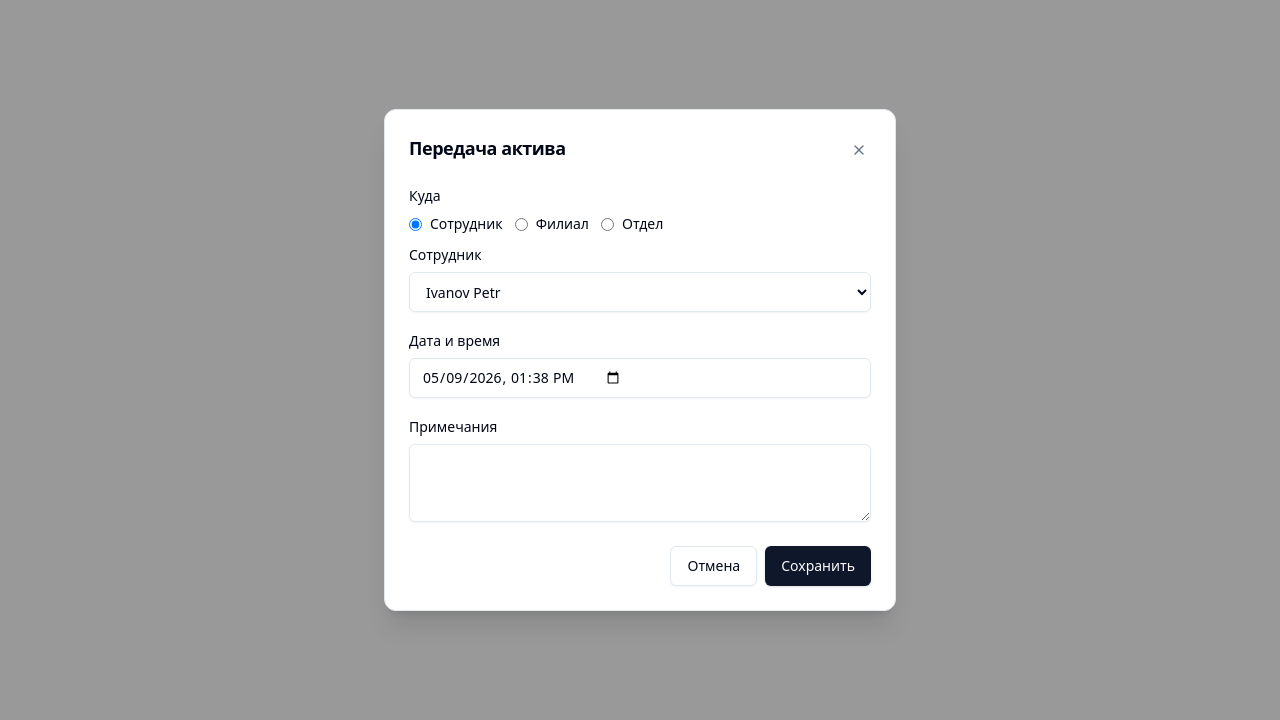
Scenario: AssignDialog › transfer mode (holder → another holder) › rejects a no-op (transfer to the same employee)
The width and height of the screenshot is (1280, 720).
# Pick the SAME employee currently assigned (e_khach) — no-op.
Select "Z Khach" in the dropdown with id "assign-employee" at (640,292), box 409,272 -> 871,312
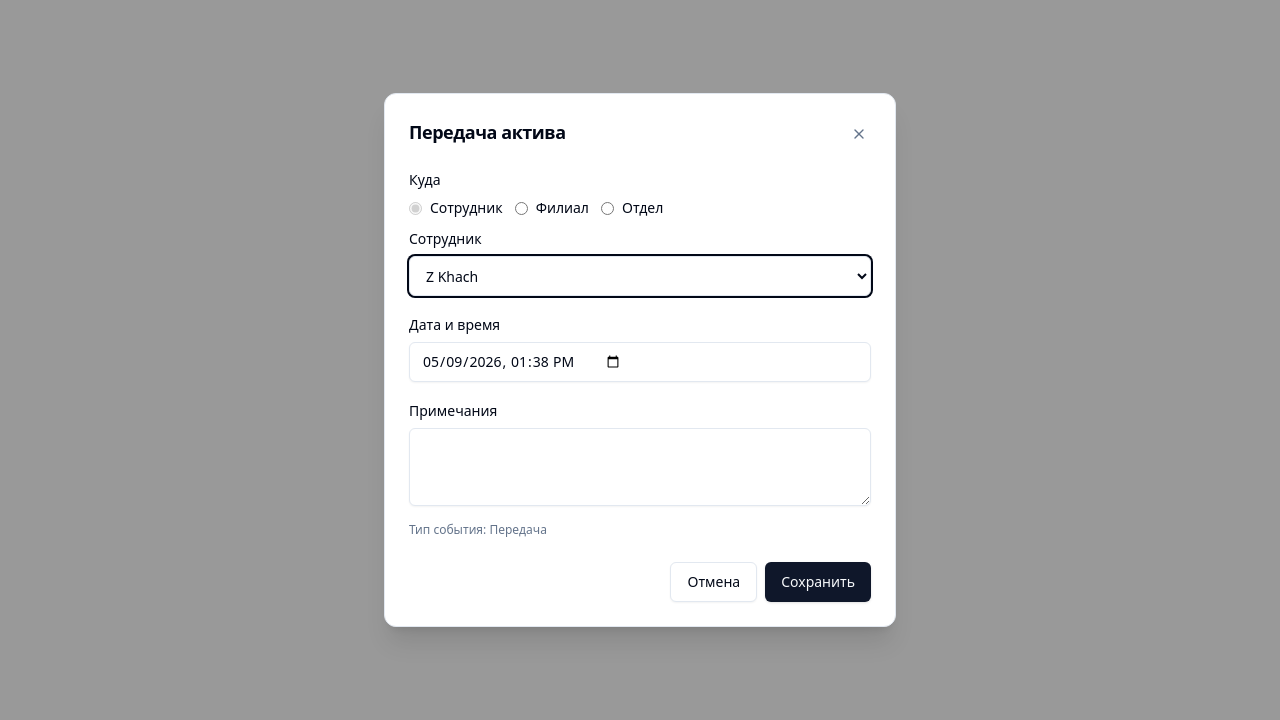
Click the button "Сохранить" at (818,582), box 765,562 -> 871,602
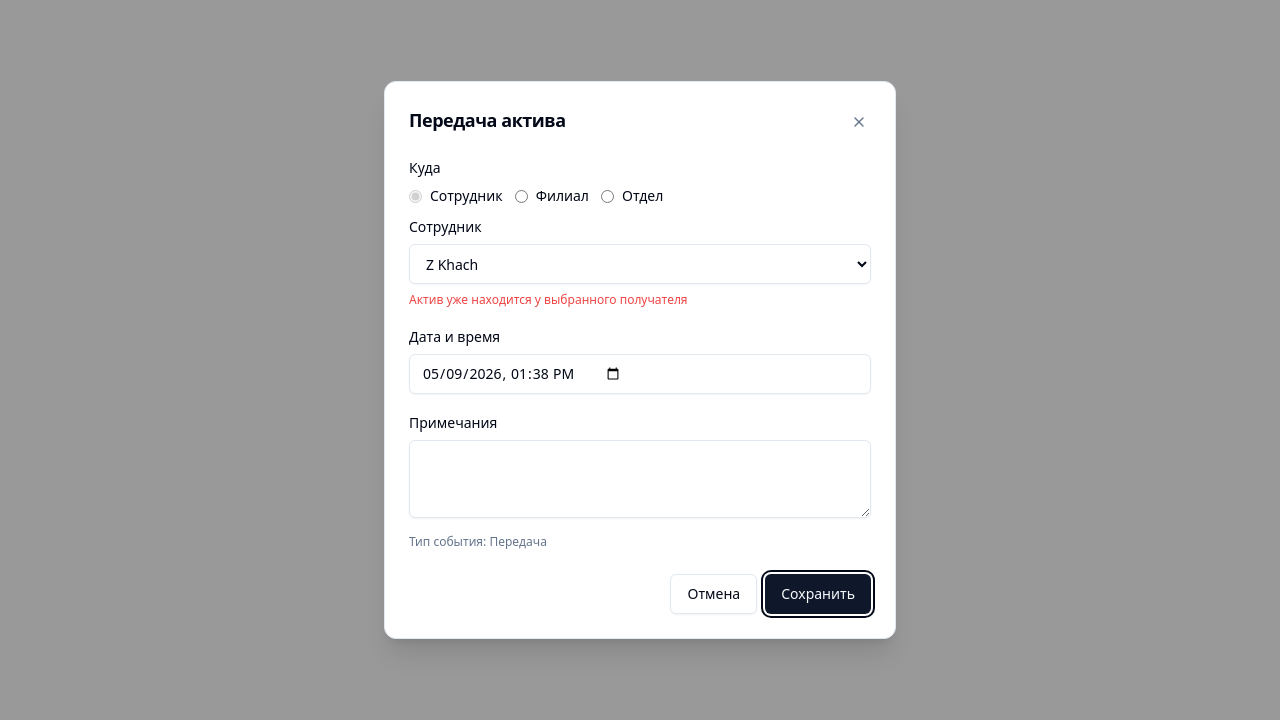
Result: the text "Актив уже находится у выбранного получателя" is shown at 409,291 -> 688,308
